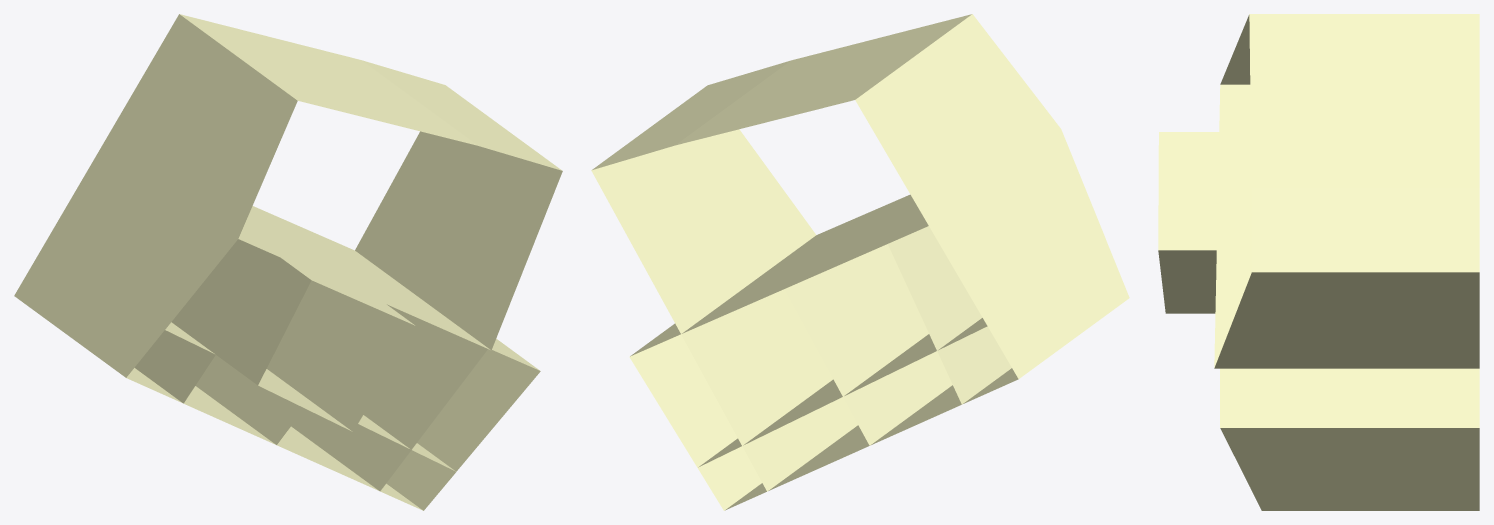
Rendered from building_3857_wall.glb.
The picture shows the model from 3 angles, left to right: view 1: azimuth 30°, elevation 25°; view 2: azimuth 150°, elevation 25°; view 3: azimuth 270°, elevation 25°; orthographic projection. The views are drawn at different scales.
Bounding box in the file's own units: 32.11 × 31.8 × 21.34.
